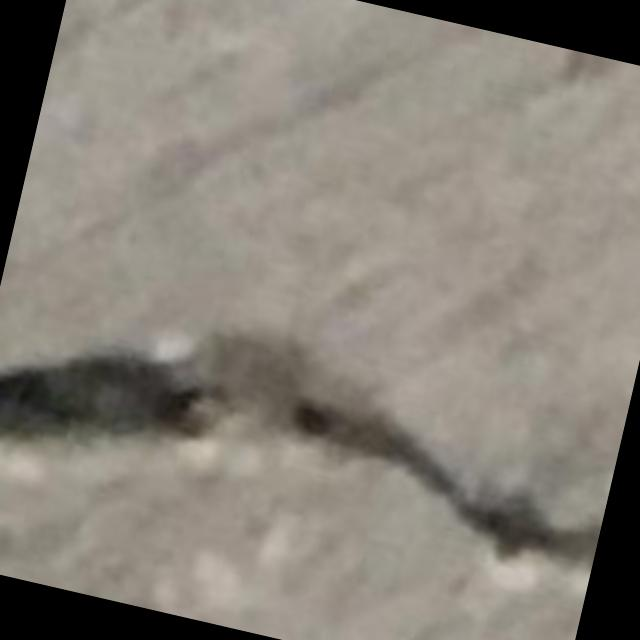crack: (0, 334, 600, 562)
